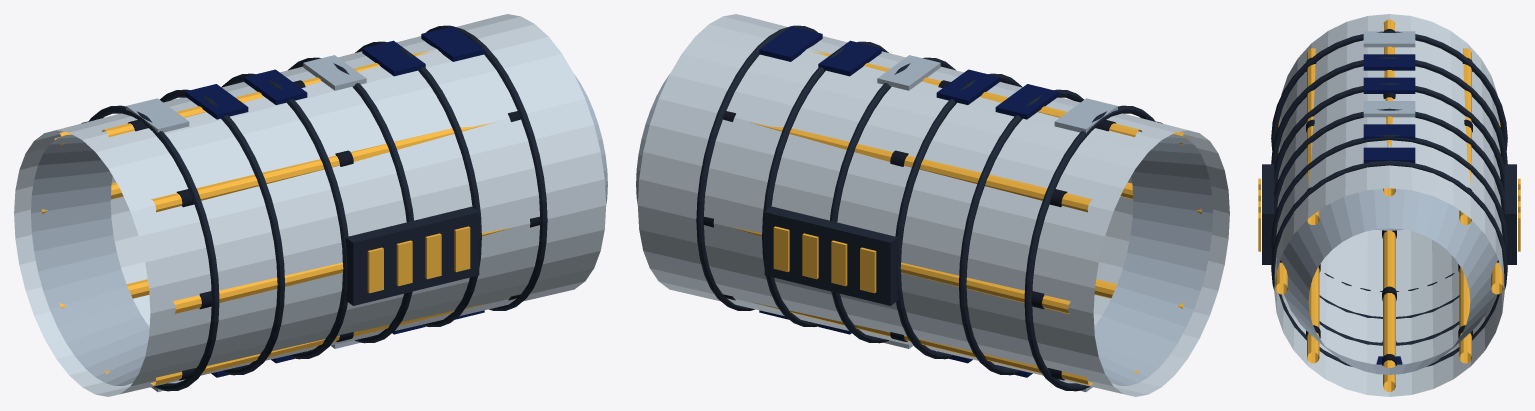
File: 18_L85_AutonomousServiceSpacecraftBody.fbx
The picture shows the model from 3 angles, left to right: view 1: azimuth 30°, elevation 25°; view 2: azimuth 150°, elevation 25°; view 3: azimuth 270°, elevation 25°; orthographic projection. The views are drawn at different scales.
Parts seen in each view (by area): view 1: L85_AutonomousServiceSpacecraftBody_Part_0000, L85_AutonomousServiceSpacecraftBody_Part_0001, L85_AutonomousServiceSpacecraftBody_Part_0006, L85_AutonomousServiceSpacecraftBody_Part_0002, L85_AutonomousServiceSpacecraftBody_Part_0007, L85_AutonomousServiceSpacecraftBody_Part_0003, L85_AutonomousServiceSpacecraftBody_Part_0004; view 2: L85_AutonomousServiceSpacecraftBody_Part_0000, L85_AutonomousServiceSpacecraftBody_Part_0001, L85_AutonomousServiceSpacecraftBody_Part_0006, L85_AutonomousServiceSpacecraftBody_Part_0002, L85_AutonomousServiceSpacecraftBody_Part_0007, L85_AutonomousServiceSpacecraftBody_Part_0005; view 3: L85_AutonomousServiceSpacecraftBody_Part_0000, L85_AutonomousServiceSpacecraftBody_Part_0006, L85_AutonomousServiceSpacecraftBody_Part_0001, L85_AutonomousServiceSpacecraftBody_Part_0002, L85_AutonomousServiceSpacecraftBody_Part_0007, L85_AutonomousServiceSpacecraftBody_Part_0004, L85_AutonomousServiceSpacecraftBody_Part_0005.
Part boxes in pixels (left/top/right/bottom): L85_AutonomousServiceSpacecraftBody_Part_0000: left=14, top=14, right=606, bottom=396; L85_AutonomousServiceSpacecraftBody_Part_0001: left=31, top=55, right=607, bottom=391; L85_AutonomousServiceSpacecraftBody_Part_0006: left=89, top=25, right=547, bottom=391; L85_AutonomousServiceSpacecraftBody_Part_0002: left=42, top=50, right=512, bottom=385; L85_AutonomousServiceSpacecraftBody_Part_0007: left=185, top=26, right=484, bottom=377; L85_AutonomousServiceSpacecraftBody_Part_0003: left=425, top=226, right=470, bottom=279; L85_AutonomousServiceSpacecraftBody_Part_0004: left=128, top=80, right=540, bottom=380; L85_AutonomousServiceSpacecraftBody_Part_0000: left=637, top=14, right=1229, bottom=396; L85_AutonomousServiceSpacecraftBody_Part_0001: left=636, top=55, right=1212, bottom=391; L85_AutonomousServiceSpacecraftBody_Part_0006: left=696, top=25, right=1154, bottom=391; L85_AutonomousServiceSpacecraftBody_Part_0002: left=731, top=50, right=1201, bottom=385; L85_AutonomousServiceSpacecraftBody_Part_0007: left=759, top=26, right=1058, bottom=377; L85_AutonomousServiceSpacecraftBody_Part_0005: left=703, top=111, right=1067, bottom=380; L85_AutonomousServiceSpacecraftBody_Part_0000: left=1274, top=14, right=1504, bottom=396; L85_AutonomousServiceSpacecraftBody_Part_0006: left=1262, top=31, right=1516, bottom=366; L85_AutonomousServiceSpacecraftBody_Part_0001: left=1280, top=31, right=1498, bottom=374; L85_AutonomousServiceSpacecraftBody_Part_0002: left=1258, top=19, right=1520, bottom=391; L85_AutonomousServiceSpacecraftBody_Part_0007: left=1363, top=54, right=1415, bottom=364; L85_AutonomousServiceSpacecraftBody_Part_0004: left=1278, top=29, right=1396, bottom=338; L85_AutonomousServiceSpacecraftBody_Part_0005: left=1382, top=57, right=1500, bottom=365.
Bounding box in the file's own units: 362 × 193 × 214.
